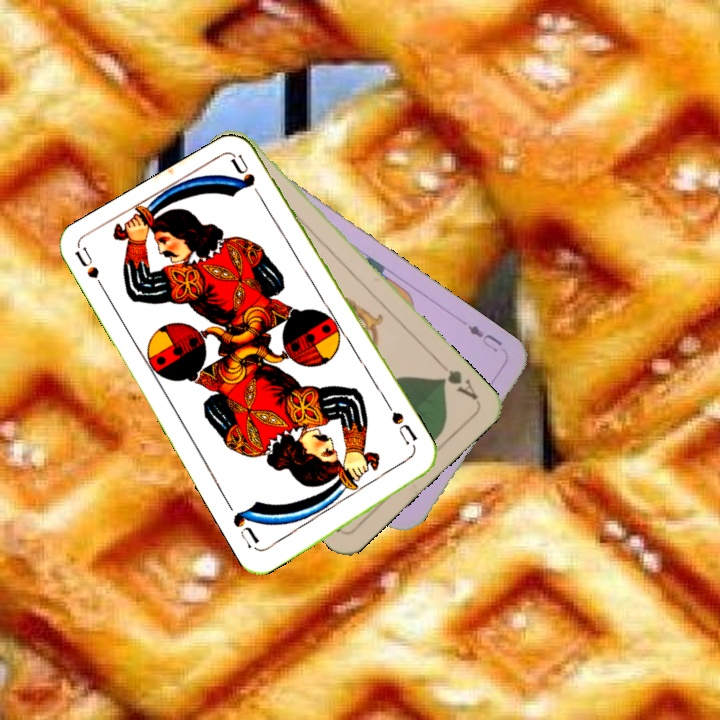EU: (463, 321, 505, 355)
GA: (434, 359, 481, 403)
SU: (72, 245, 112, 301), (387, 407, 420, 447)
